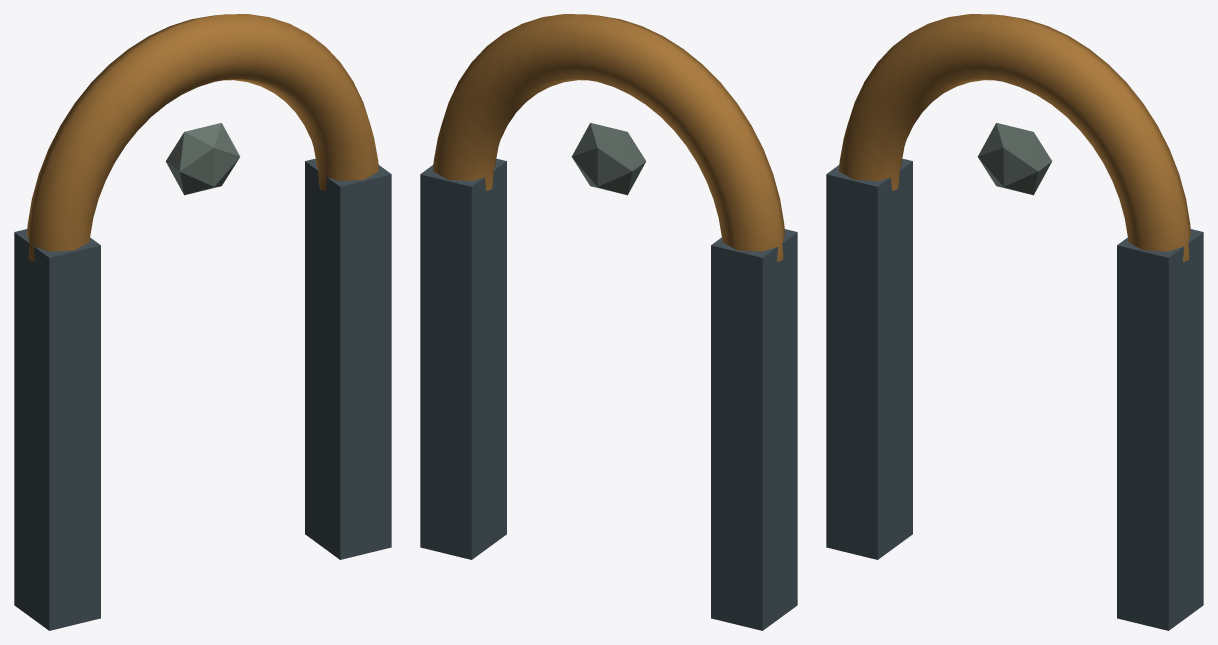
File: gateway.glb
3 views of the same model, side by side, from view 1: azimuth 30°, elevation 25°; view 2: azimuth 150°, elevation 25°; view 3: azimuth 330°, elevation 25° (orthographic).
Parts seen in each view (by area): view 1: pillar_-1, pillar_1, arch, keystone; view 2: pillar_-1, pillar_1, arch, keystone; view 3: pillar_1, pillar_-1, arch, keystone.
Part boxes in pixels (x1,y1,x2,y2): pillar_-1: (14,229,100,630); pillar_1: (305,158,391,559); arch: (27,14,378,261); keystone: (165,123,240,195); pillar_-1: (711,229,797,630); pillar_1: (420,158,506,559); arch: (433,14,784,261); keystone: (571,123,646,195); pillar_1: (1117,229,1203,630); pillar_-1: (826,158,912,559); arch: (839,14,1190,261); keystone: (977,123,1052,195).
Size of what is drawn, in the model's own units: 3.7 by 5.69 by 0.65.
